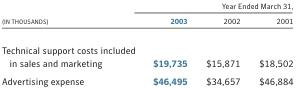table: (0, 1, 292, 85)
table column: (0, 1, 143, 85), (195, 1, 248, 85), (143, 1, 195, 85), (248, 1, 292, 85)
table column header: (0, 1, 292, 34)
table row: (0, 34, 292, 71), (0, 12, 292, 34), (0, 71, 292, 85), (0, 1, 292, 12)
table spanning cell: (0, 1, 143, 34), (143, 1, 292, 12)
